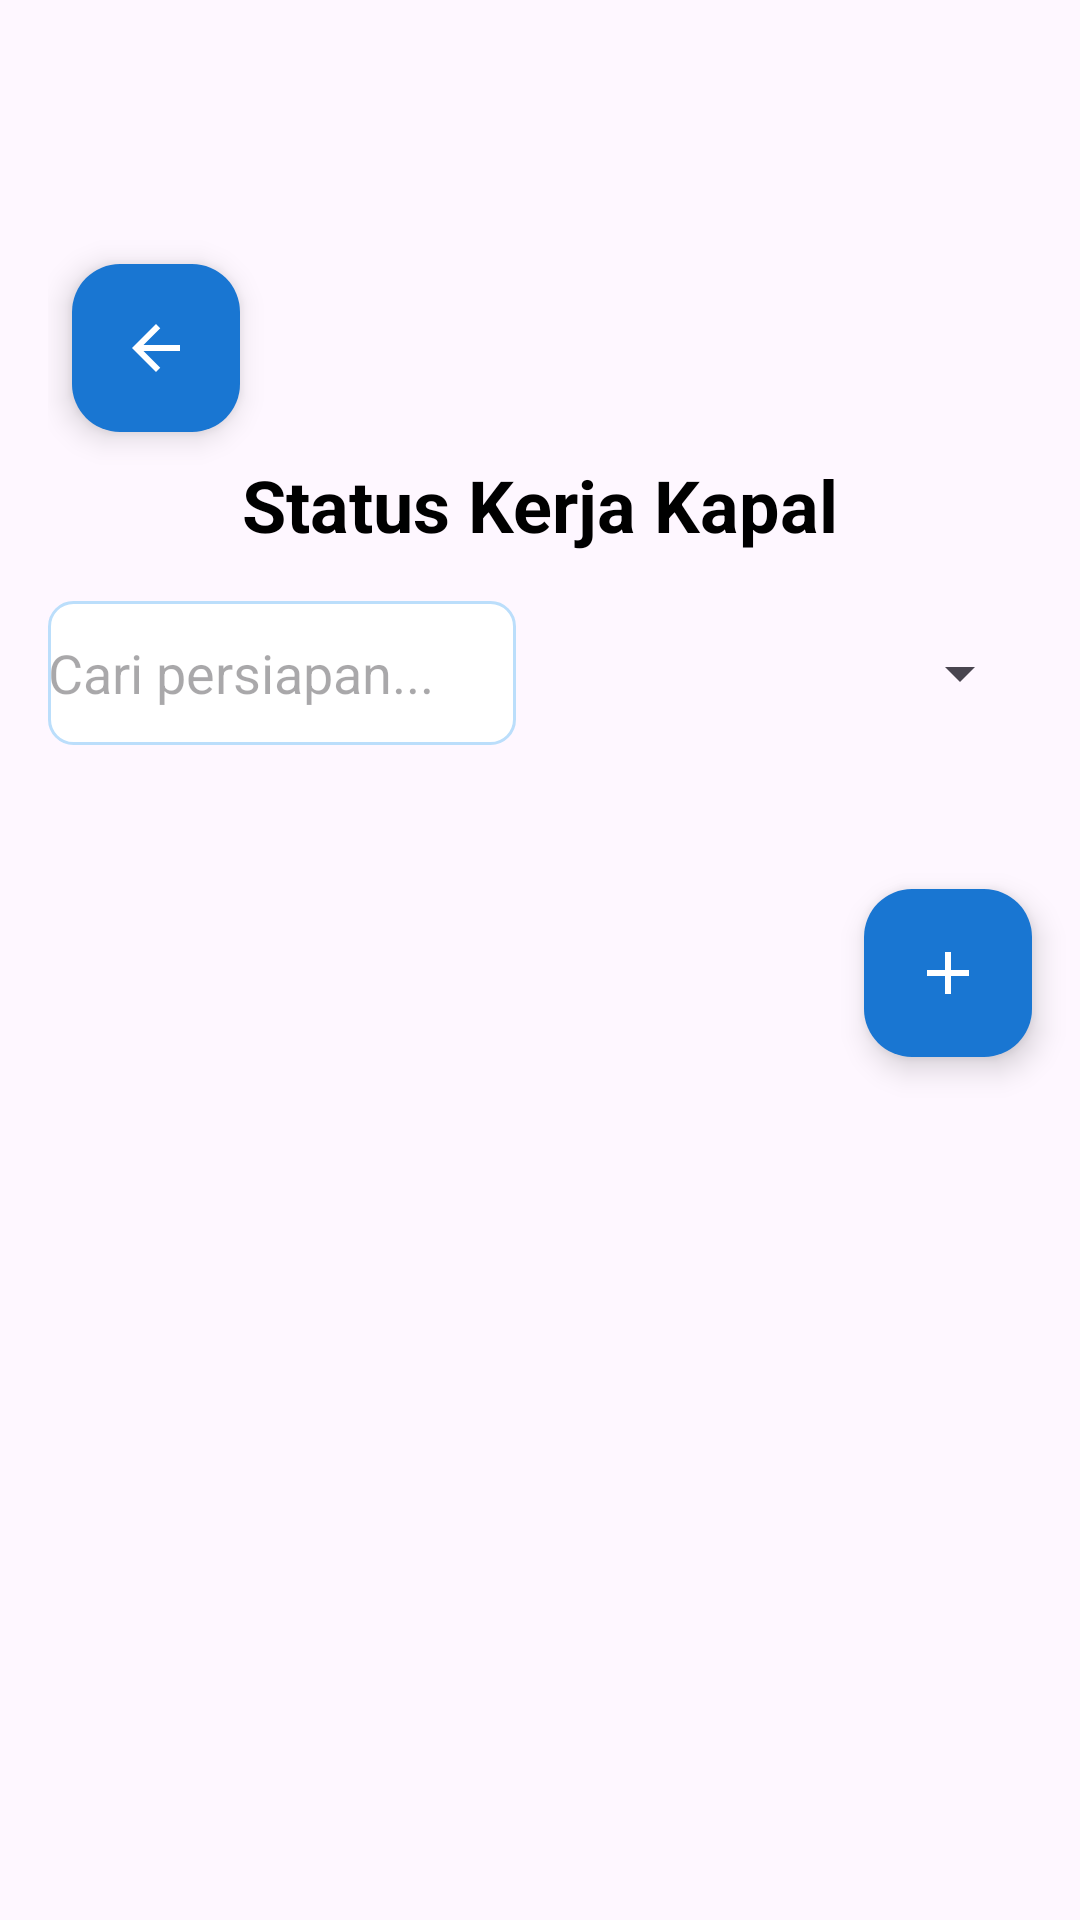

Icons on this 1080x1920 Android screen, each with its box as [x1=x1, y1=y1, x2=x2, y2=y2]:
add: [x1=864, y1=889, x2=1032, y2=1057]
arrow back: [x1=72, y1=264, x2=240, y2=432]
